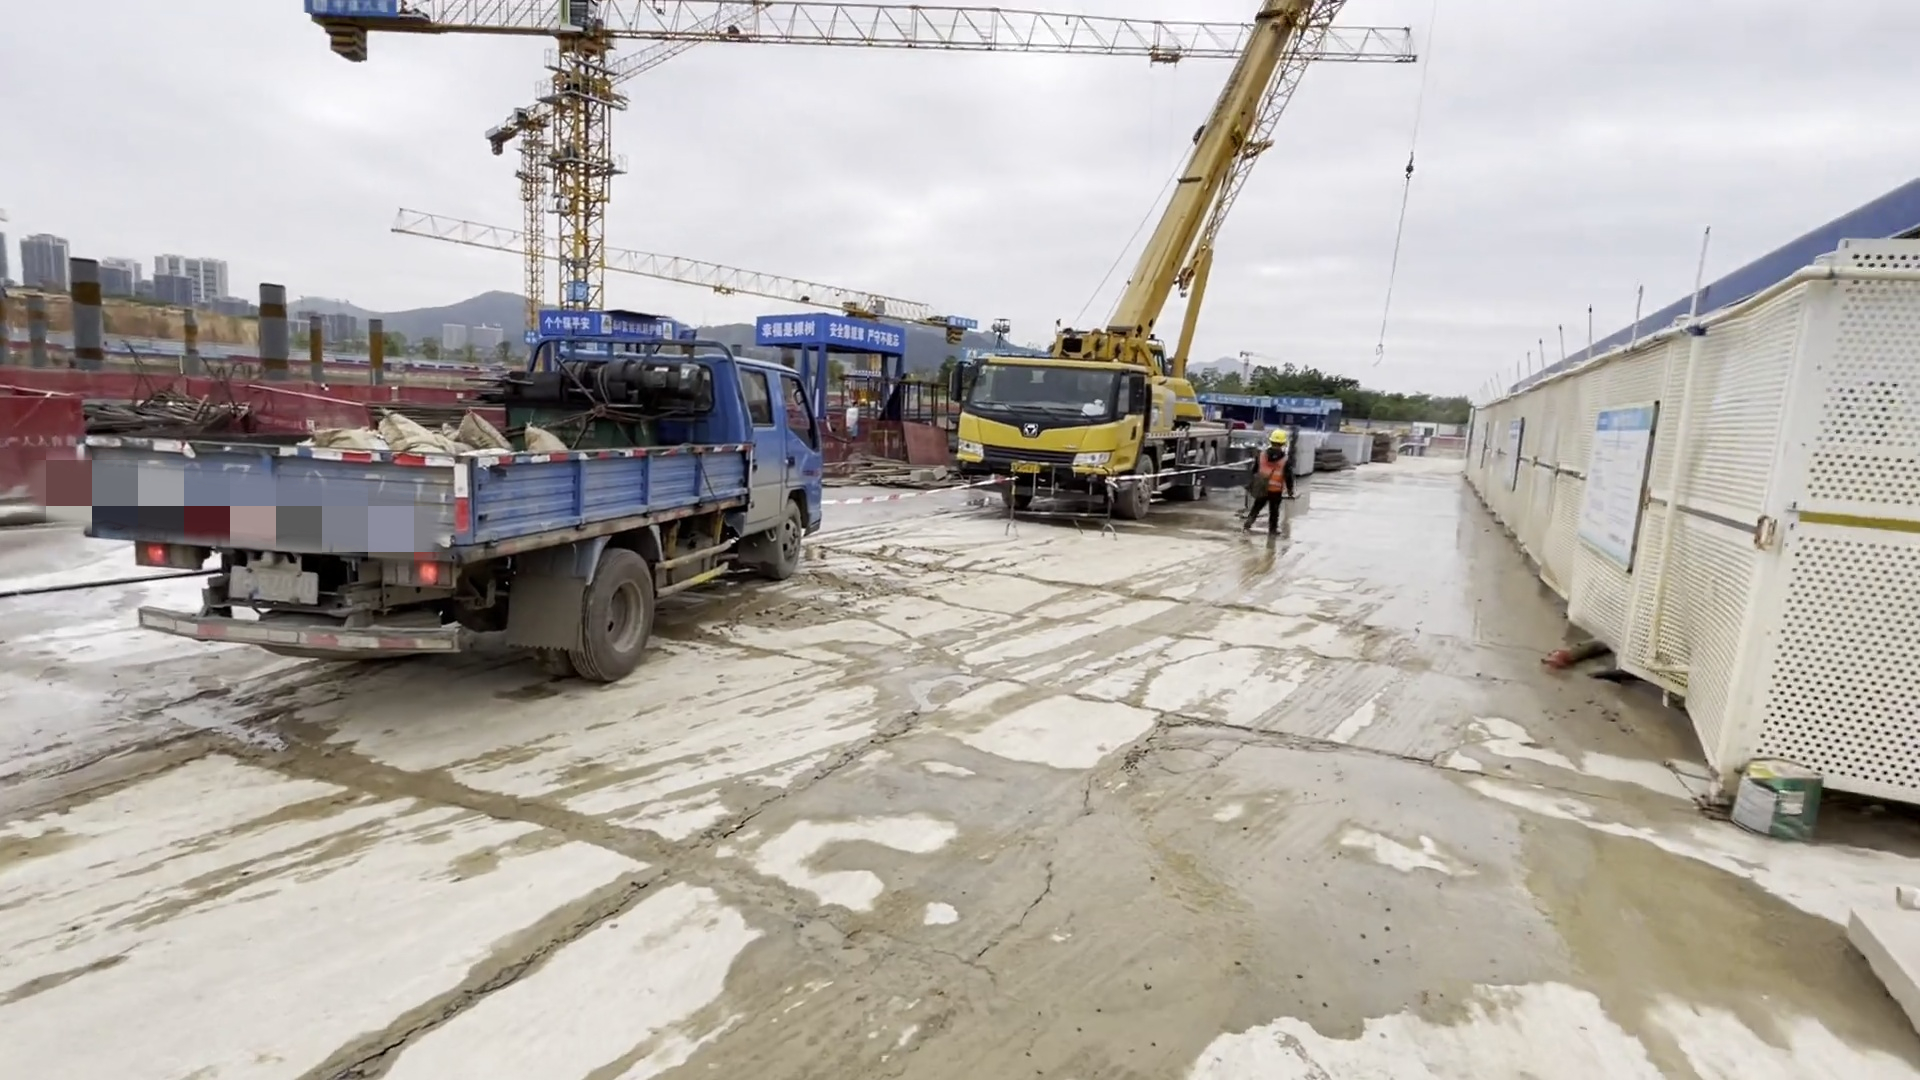helmet: (1252, 429, 1291, 451)
person: (1238, 429, 1306, 549)
slogan: (538, 303, 693, 355), (747, 312, 912, 357)
vest: (1243, 457, 1293, 501)
